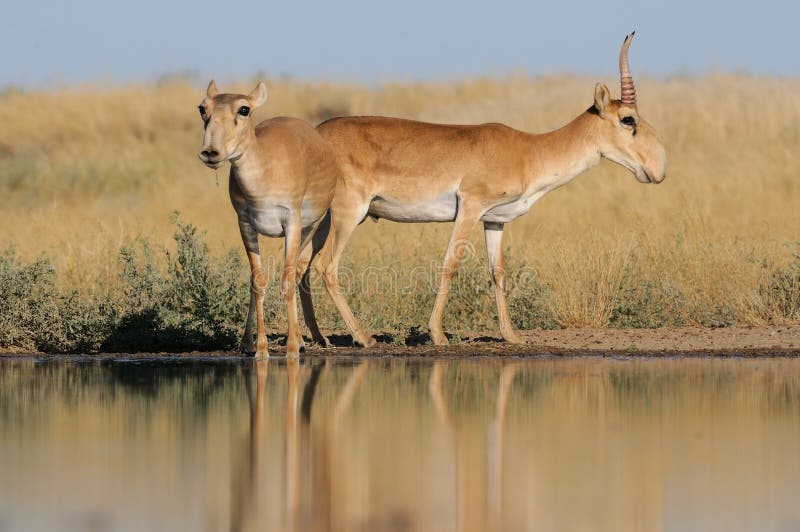saiga: (322, 25, 669, 359), (191, 80, 337, 363)
